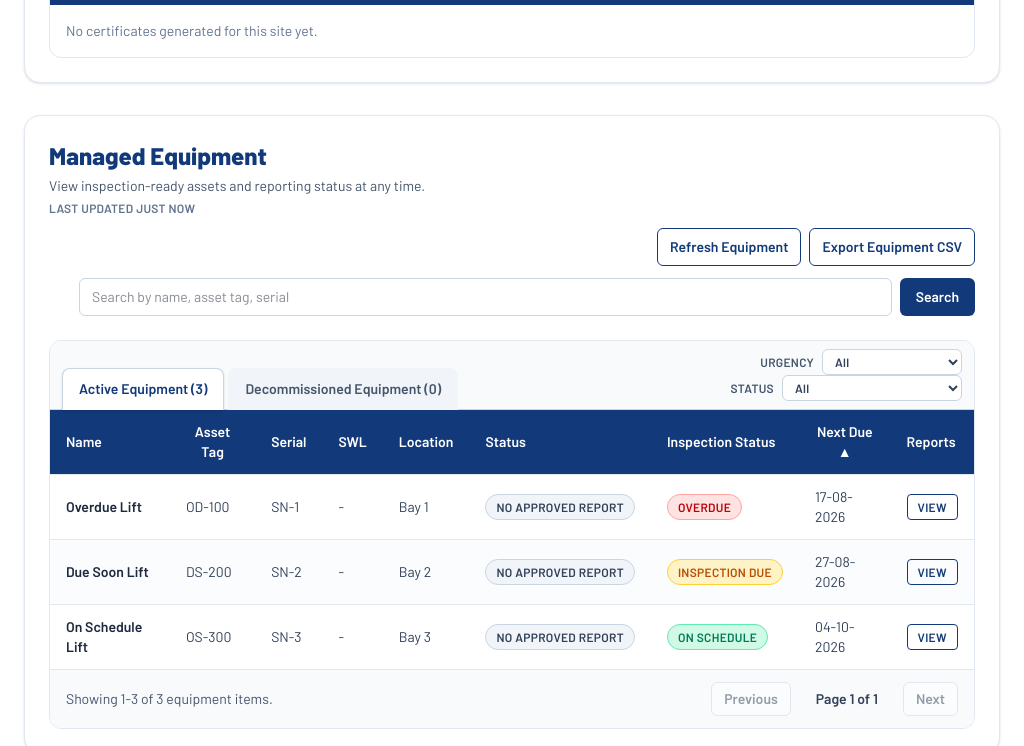
it: PortalDashboardPage › filters equipment by inspection urgency
(page scrolled)
Check: the text "Overdue Lift" is shown, box [50,474,170,540]
Select "Overdue" in the dropdown labelled "Urgency": (892, 362) [822,349,962,375]
(page scrolled)
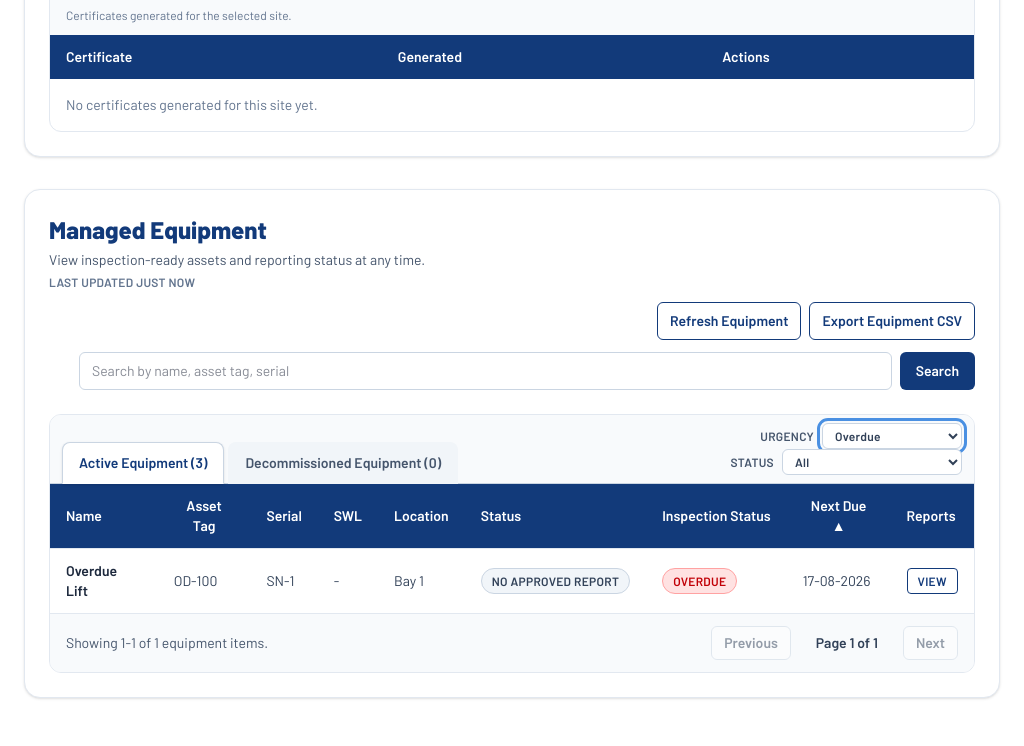
Check: the text "Overdue Lift" is shown, box [50,548,158,613]
Check: the text "Due Soon Lift" is gone
Check: the text "On Schedule Lift" is gone
